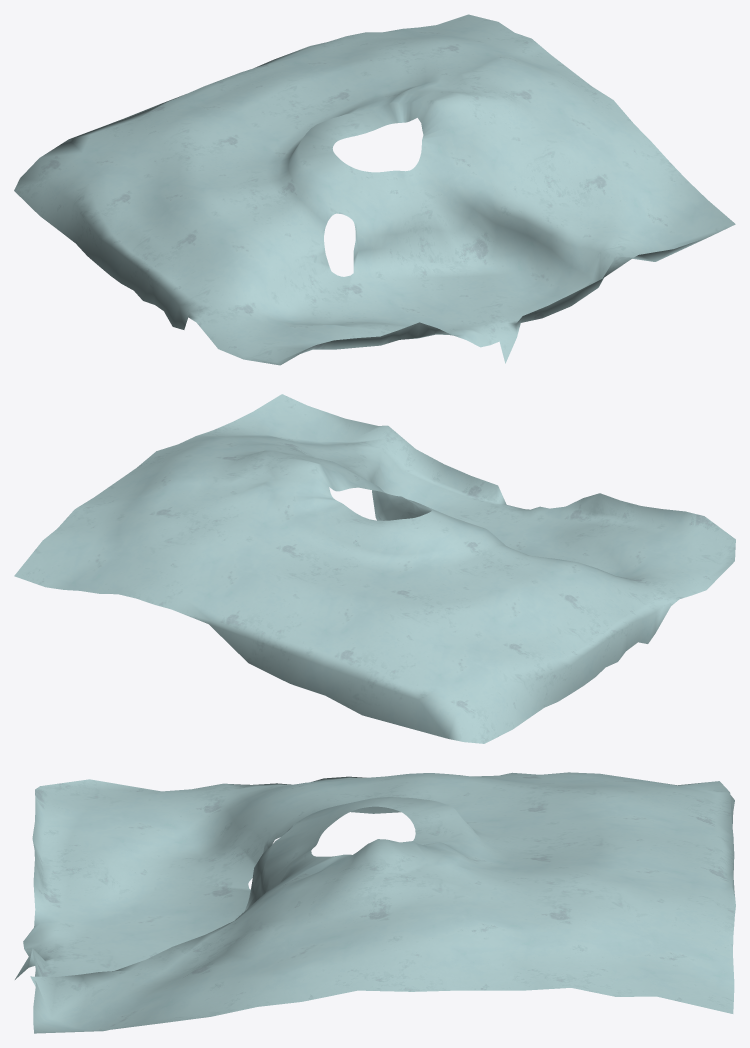
The model's file is field_winter_ice_mountain.fbx.
3 renders of one model, top to bottom at view 1: azimuth 30°, elevation 25°; view 2: azimuth 150°, elevation 25°; view 3: azimuth 270°, elevation 25°, orthographic. The views are drawn at different scales.
Visible parts, largest first — view 1: field_winter_ice_mountain; view 2: field_winter_ice_mountain; view 3: field_winter_ice_mountain.
Part boxes in pixels (<box>): field_winter_ice_mountain: <box>14,14,735,365</box>; field_winter_ice_mountain: <box>14,394,735,743</box>; field_winter_ice_mountain: <box>15,772,735,1033</box>.
Bounding box in the file's own units: 6165 × 1787 × 6231.
Materials: 1 (1 with a texture image).
